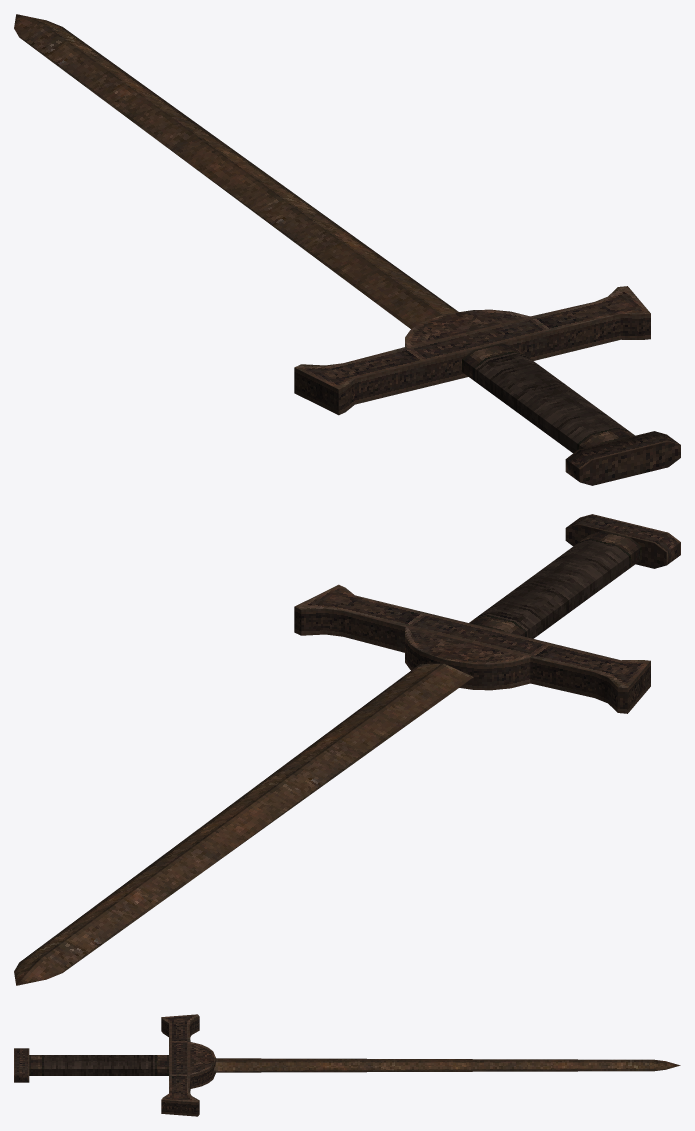
File: sword_mp_1.glb
3 renders of one model, top to bottom at view 1: azimuth 30°, elevation 25°; view 2: azimuth 150°, elevation 25°; view 3: azimuth 270°, elevation 25°, orthographic. The views are drawn at different scales.
Parts seen in each view (by area): view 1: sword_mp_1; view 2: sword_mp_1; view 3: sword_mp_1.
Part boxes in pixels (x1,y1,x2,y2): sword_mp_1: [14, 14, 680, 485]; sword_mp_1: [14, 514, 680, 985]; sword_mp_1: [14, 1014, 680, 1116].
Size of the model in its own units: 0.3245 by 0.024 by 1.04.
Materials: 1 (1 with a texture image).
